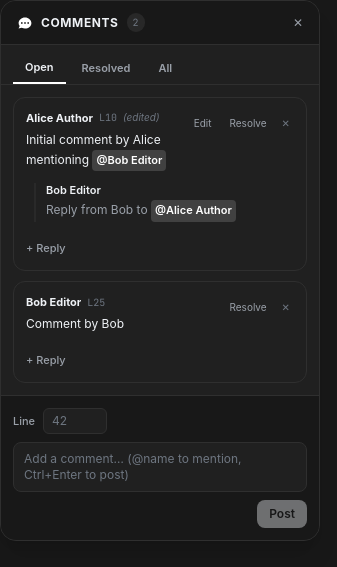
Test: Stage 4: Comments v2 & Notifications Frontend › 1. Comment Editing Flow › shows Edit button only for own comments and toggles inline editor
expect the text "(edited)" is shown: met, box [123,110,160,125]
Click Edit button
Click the button "Edit": (203, 123) [187,112,218,134]
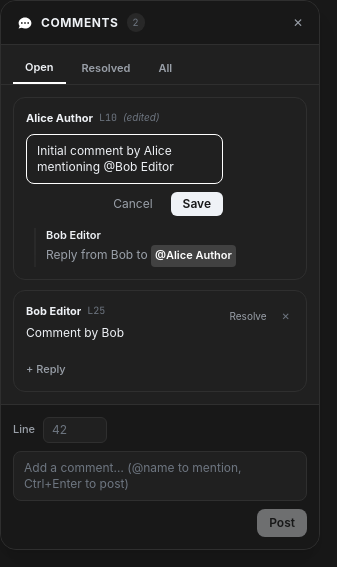
expect the button "Save" is shown: met, box [171,192,223,216]
expect the button "Cancel" is shown: met, box [103,192,163,216]
